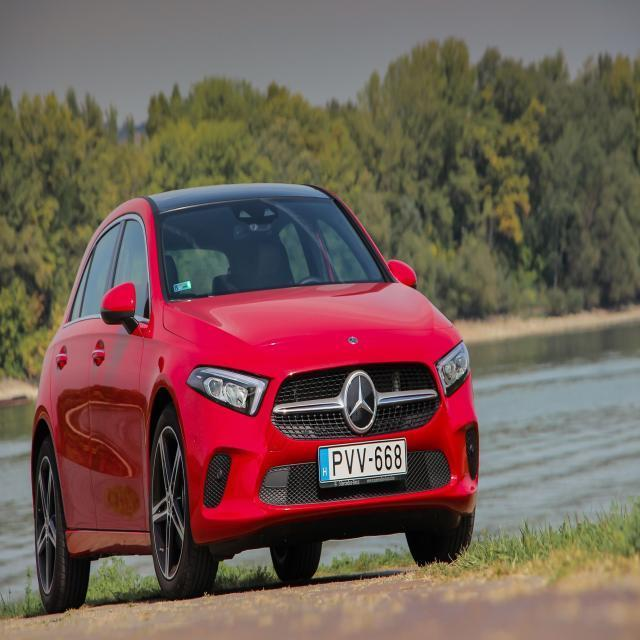licence: (316, 440, 415, 489)
